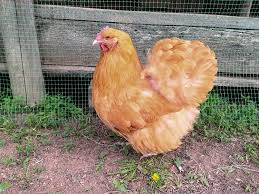buff: (91, 27, 212, 142)
